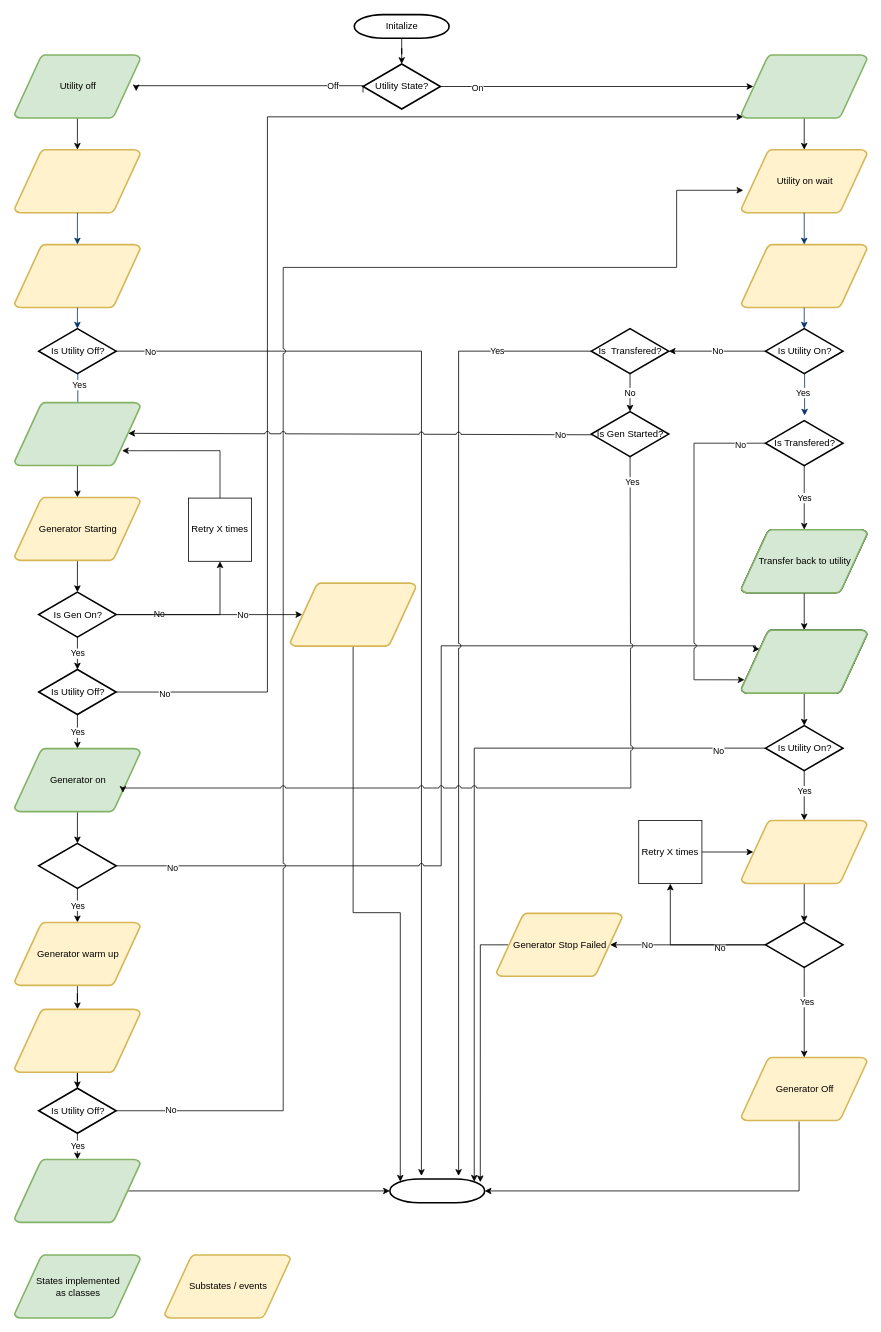
The diagram is 881 pixels wide and 1332 high, and some of its shapes have lost their labels. The shapes that lost their labels are listed below. From the top down, each one's centre as x and y in pixels, then its label:
point 803,86: Utility on
point 77,181: Utility off wait
point 77,275: Utility off wait done
point 803,275: Utility on wait done
point 77,433: Generator Start
point 352,614: Generator Start Failed
point 803,661: Generator Stop
point 77,865: Is Utility Off
point 803,851: Generator Stopping
point 803,944: Is Gen Off?
point 77,1040: Warm up Done
point 77,1190: Transfer to generator
point 437,1190: Idle
